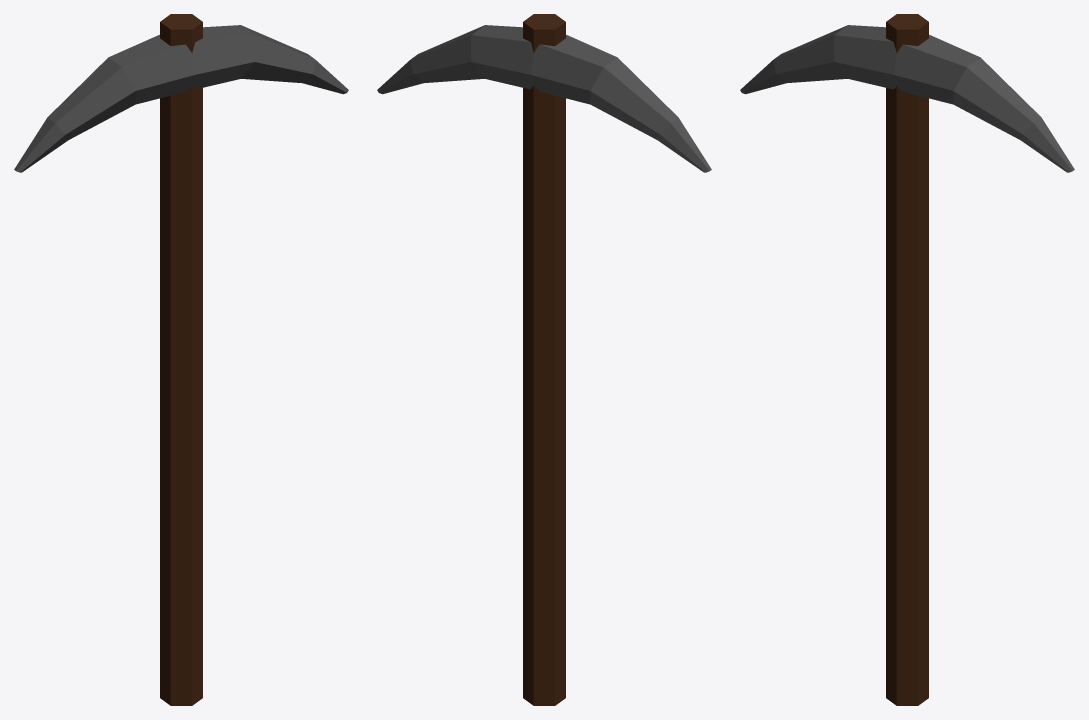
3 renders of one model, left to right at view 1: azimuth 30°, elevation 25°; view 2: azimuth 150°, elevation 25°; view 3: azimuth 330°, elevation 25°, orthographic.
Visible parts, largest first — view 1: Cylinder; view 2: Cylinder; view 3: Cylinder.
Boxes of the visible parts, <box> form: Cylinder: <box>14,14,348,705</box>; Cylinder: <box>377,14,711,705</box>; Cylinder: <box>740,14,1074,705</box>.
Size of the model in its own units: 372 by 722 by 52.89.
